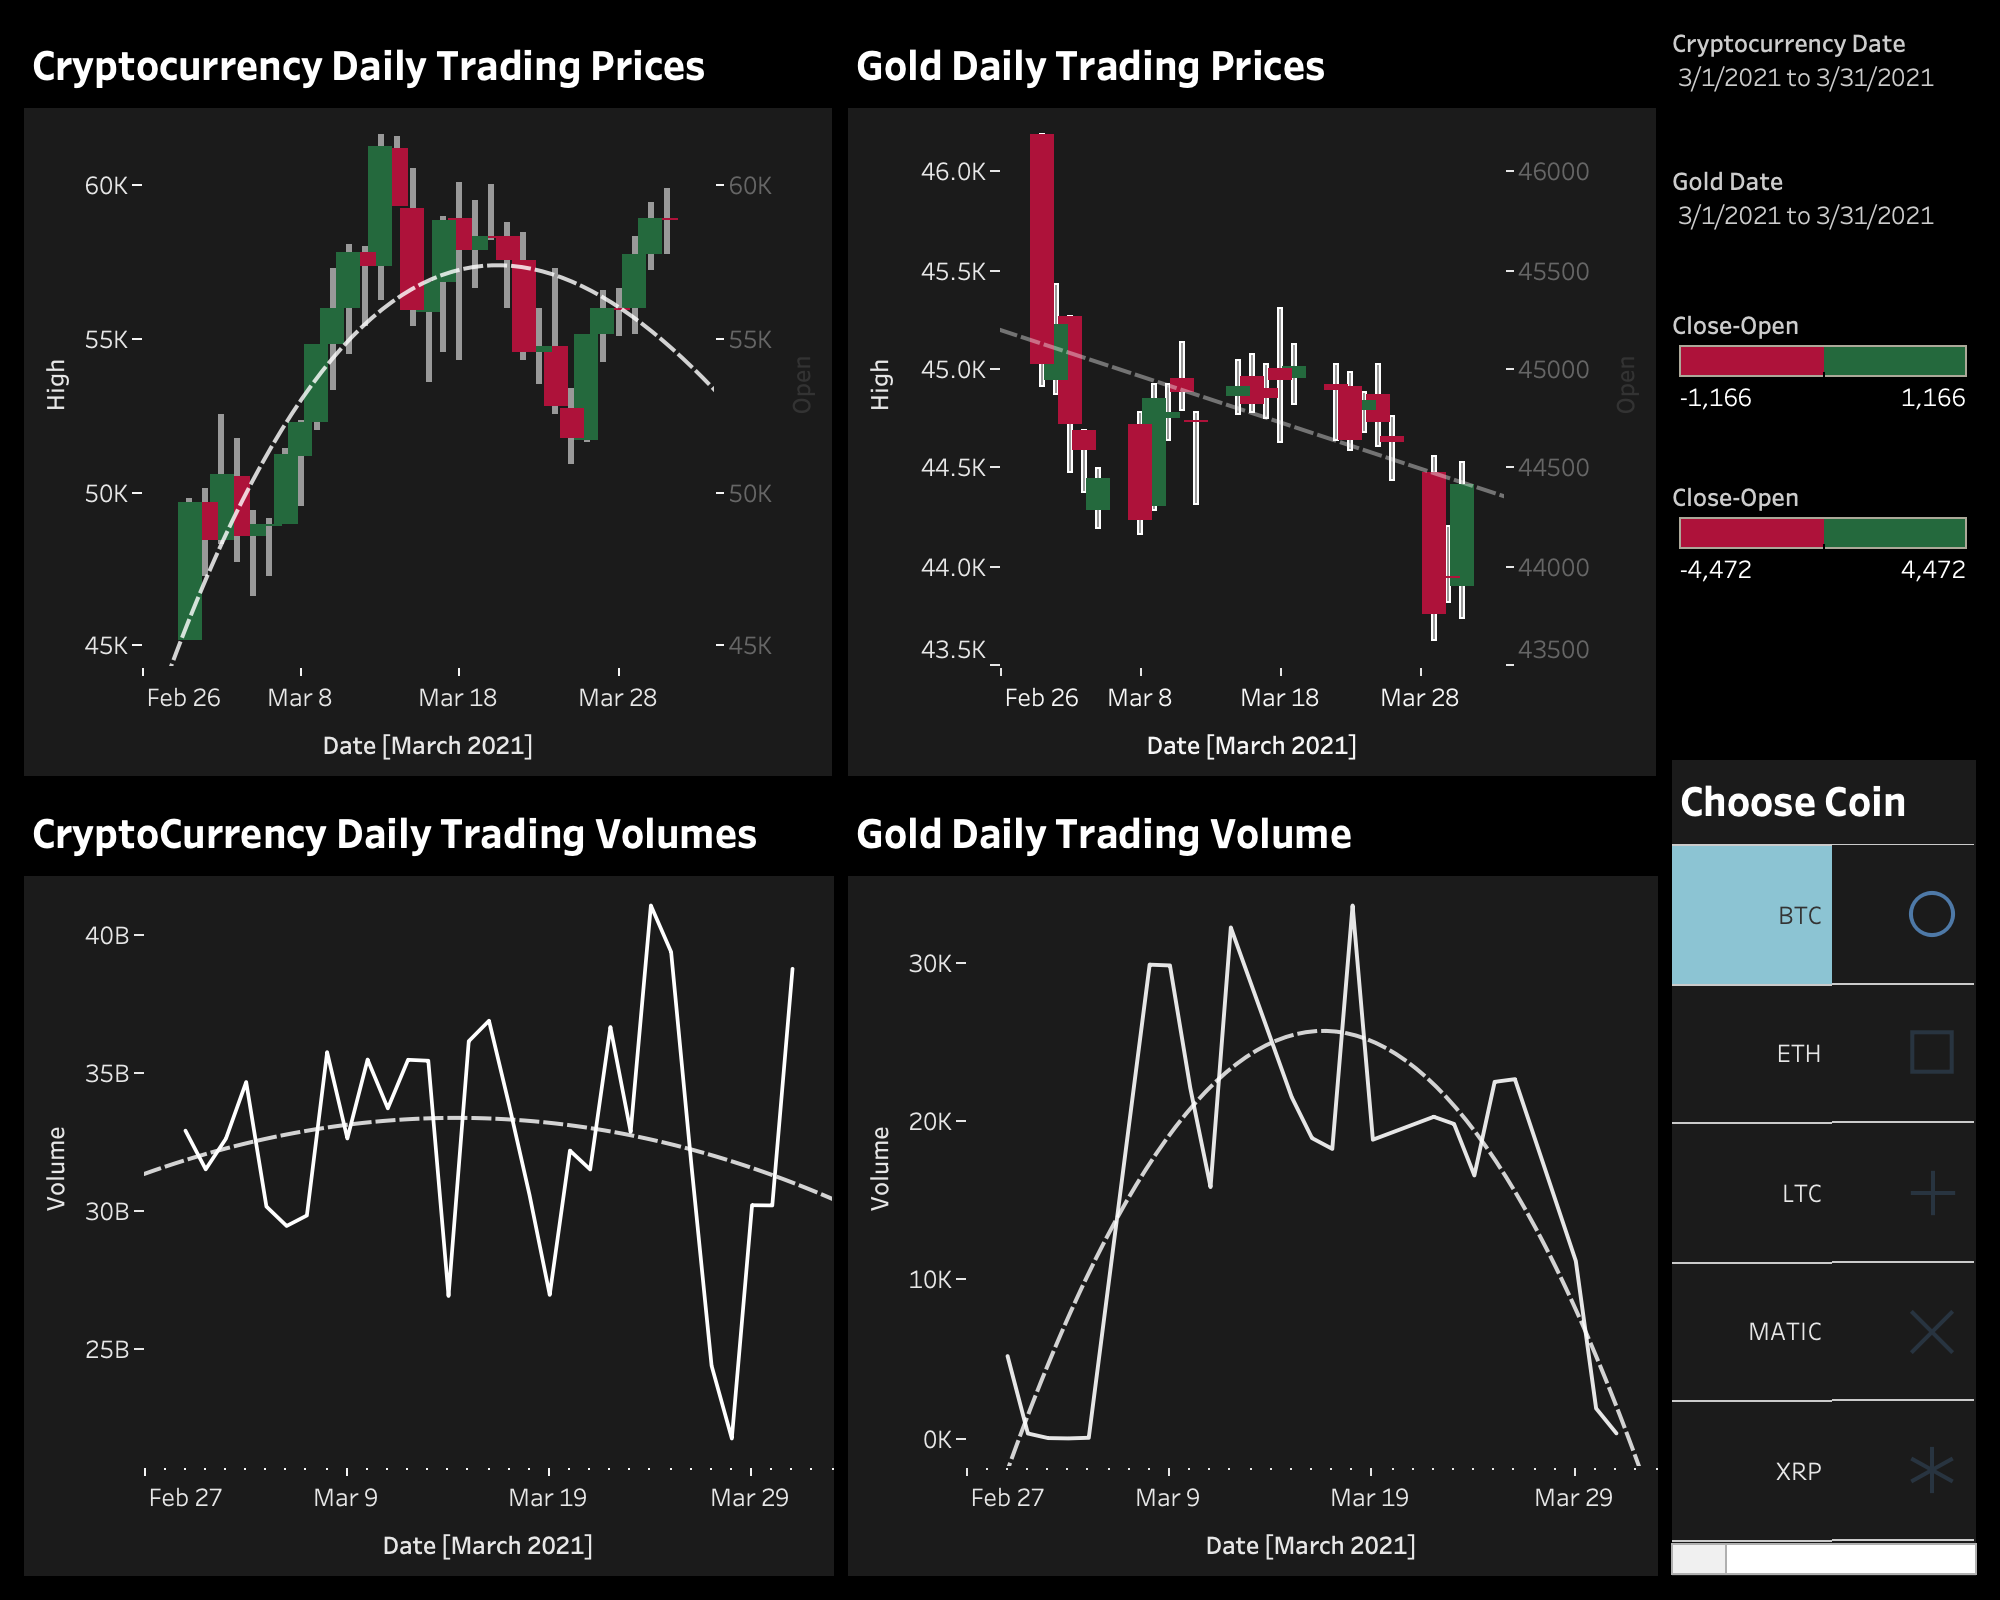

This screenshot's page, from the dashboard's own definition file:
{"tool":"tableau","page":{"name":"CryptoCurrency Vs Gold","canvas":[1000,800],"ordinal":0},"visuals":[{"type":"worksheet","title":"Cryptocurrency Daily Trading Prices","mark":"GanttBar","rows":["High","Open"],"cols":["Date"],"box":[8,8,412,384]},{"type":"worksheet","title":"Gold Daily Trading Prices","mark":"GanttBar","rows":["High","Open"],"cols":["Date"],"box":[420,8,412,384]},{"type":"filter","title":"Daily Trading Volumes","param":"[federated.1opaqk90h5cyzm1exfpmh1xa5i28].[none:Date:qk]","box":[832,8,160,69]},{"type":"filter","title":"Gold Daily Trading Prices","param":"[federated.173rzcu1mr2zrj1ezrdzi1kota3a].[none:Date:qk]","box":[832,77,160,69]},{"type":"legend","title":"Gold Daily Trading Prices","param":"[federated.173rzcu1mr2zrj1ezrdzi1kota3a].[usr:Calculation_717831583126228995:qk]","box":[832,146,160,86]},{"type":"legend","title":"Cryptocurrency Daily Trading Prices","param":"[federated.1opaqk90h5cyzm1exfpmh1xa5i28].[usr:Calculation_600245411234570242:qk]","box":[832,232,160,144]},{"type":"worksheet","title":"Choose Coin","mark":"Automatic","rows":["Sheet"],"cols":["Calculation_600245411243675651","Calculation_600245411243675651","Calculation_600245411243675651","Calculation_600245411243675651"],"box":[832,376,160,416]},{"type":"worksheet","title":"Daily Trading Volumes","mark":"Automatic","rows":["Volume"],"cols":["Date"],"box":[8,392,412,400]},{"type":"worksheet","title":"Gold Daily Trading Volume","mark":"Automatic","rows":["Volume"],"cols":["Date"],"box":[420,392,412,400]}]}

Visuals, with their boxes in screenshot pixels (x1, y1, x2, y2), scaled from the page's 1000x800 canvas onto the 2000x1600 screenshot:
"Cryptocurrency Daily Trading Prices" worksheet (GanttBar marks): BBox(16, 16, 840, 784)
"Gold Daily Trading Prices" worksheet (GanttBar marks): BBox(840, 16, 1664, 784)
"Daily Trading Volumes" filter: BBox(1664, 16, 1984, 154)
"Gold Daily Trading Prices" filter: BBox(1664, 154, 1984, 292)
"Gold Daily Trading Prices" legend: BBox(1664, 292, 1984, 464)
"Cryptocurrency Daily Trading Prices" legend: BBox(1664, 464, 1984, 752)
"Choose Coin" worksheet: BBox(1664, 752, 1984, 1584)
"Daily Trading Volumes" worksheet: BBox(16, 784, 840, 1584)
"Gold Daily Trading Volume" worksheet: BBox(840, 784, 1664, 1584)
